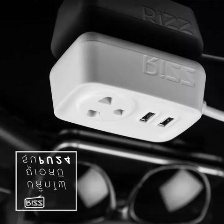three_eye_plug: (39, 28, 212, 150)
